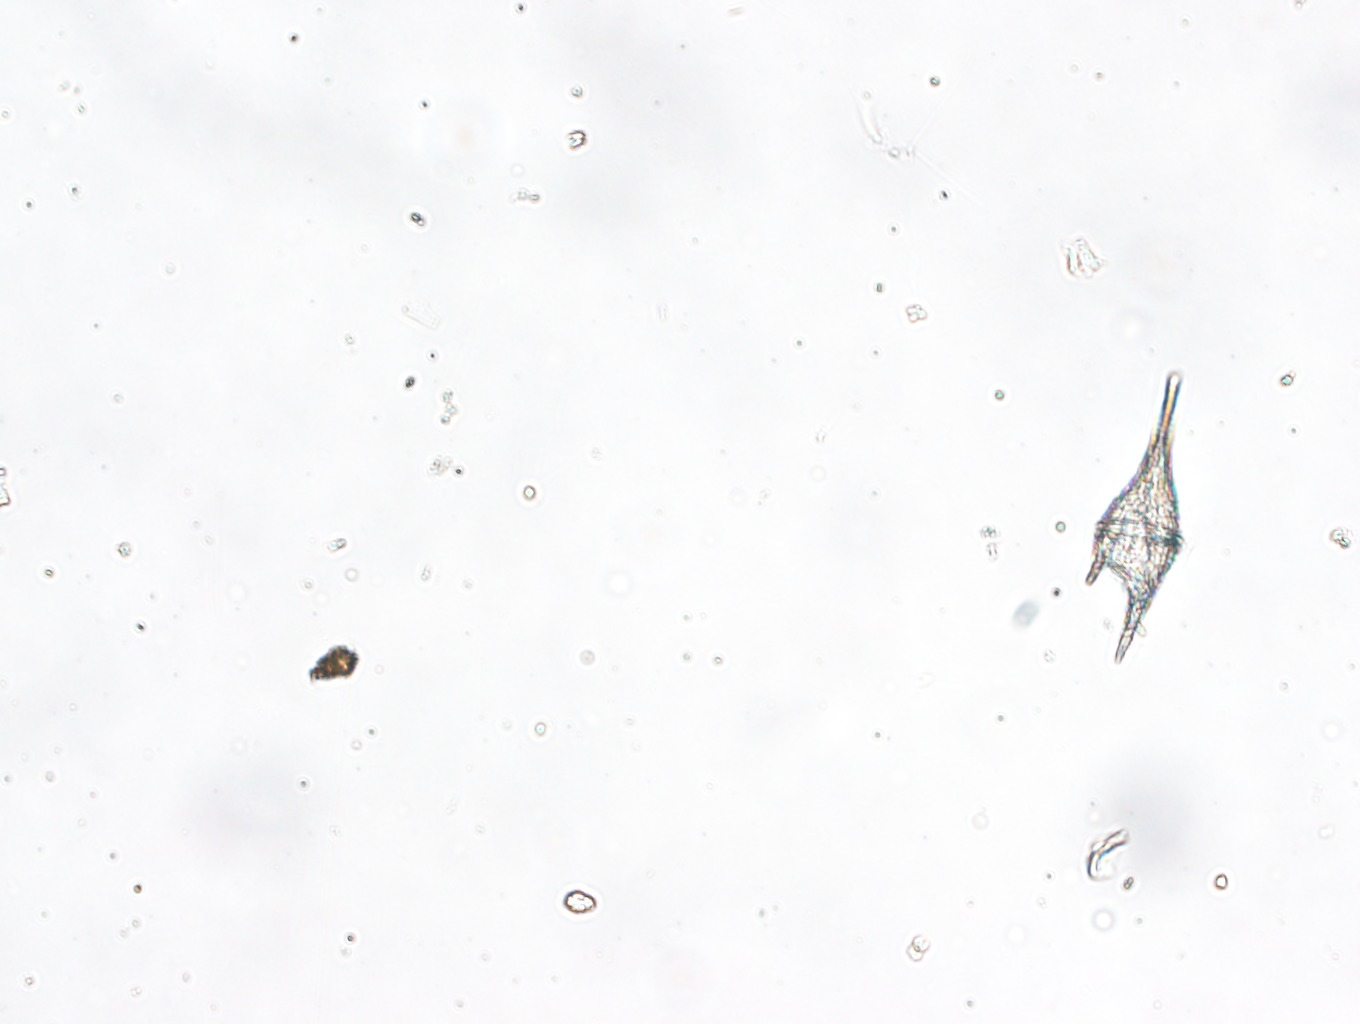ceratium furca: (1080, 373, 1192, 665)
